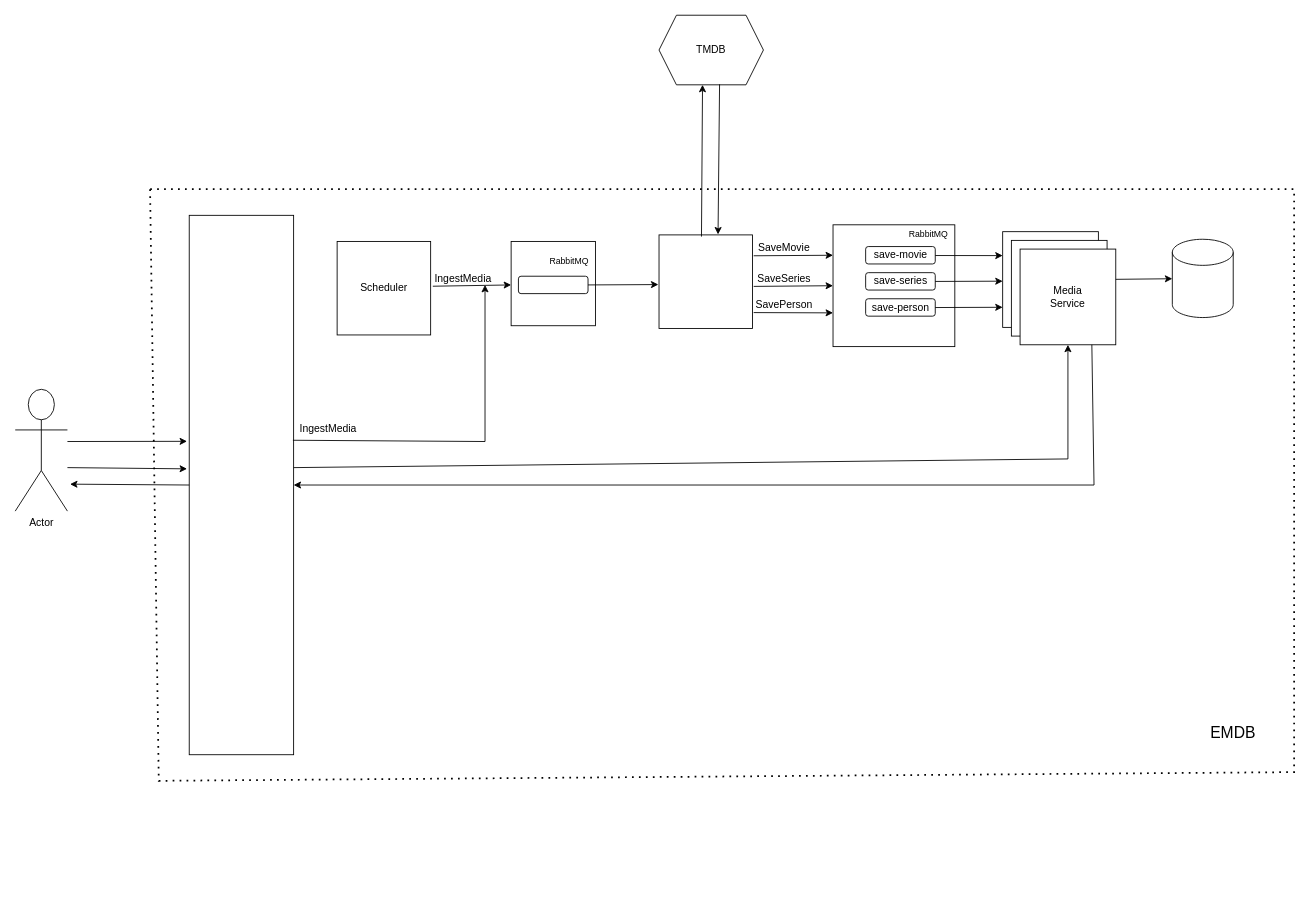
Image size: 1311x899. Some labels were removed from this diagram. Each missing label, with the centre of its shape:
ingestt-media: point (553, 284)
Media Schema: point (1202, 278)
NGINX: point (241, 484)
Scraper: point (705, 281)
